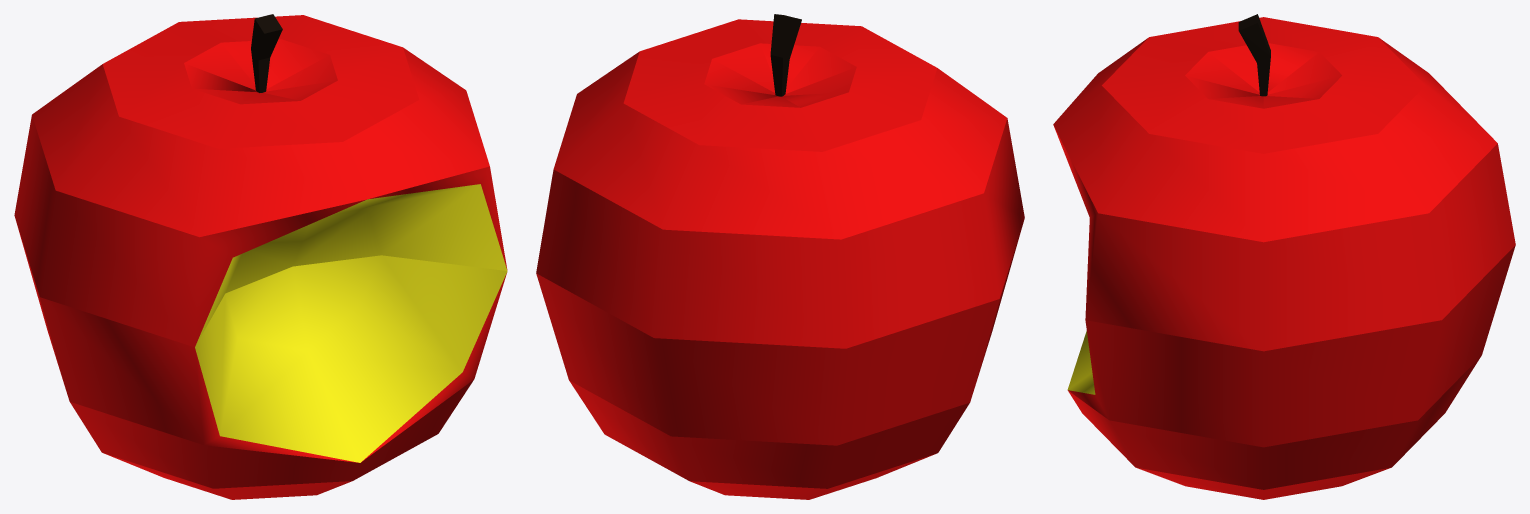
The model's file is Pomme_mangee1.FBX.
The picture shows the model from 3 angles, left to right: view 1: azimuth 30°, elevation 25°; view 2: azimuth 150°, elevation 25°; view 3: azimuth 270°, elevation 25°; orthographic projection.
Parts seen in each view (by area): view 1: Line001, Plane001; view 2: Line001, Plane001; view 3: Line001, Plane001.
Part boxes in pixels (bbox=[...]): Line001: bbox=[14, 15, 507, 499]; Plane001: bbox=[251, 14, 282, 92]; Line001: bbox=[536, 19, 1024, 499]; Plane001: bbox=[770, 14, 801, 96]; Line001: bbox=[1053, 17, 1515, 499]; Plane001: bbox=[1238, 14, 1270, 96].
Size of the model in its own units: 94.1 by 91.84 by 86.34.
